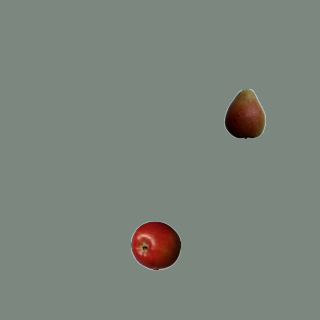Apple Braeburn: (130, 220, 180, 270)
Pear Forelle: (219, 88, 269, 138)
